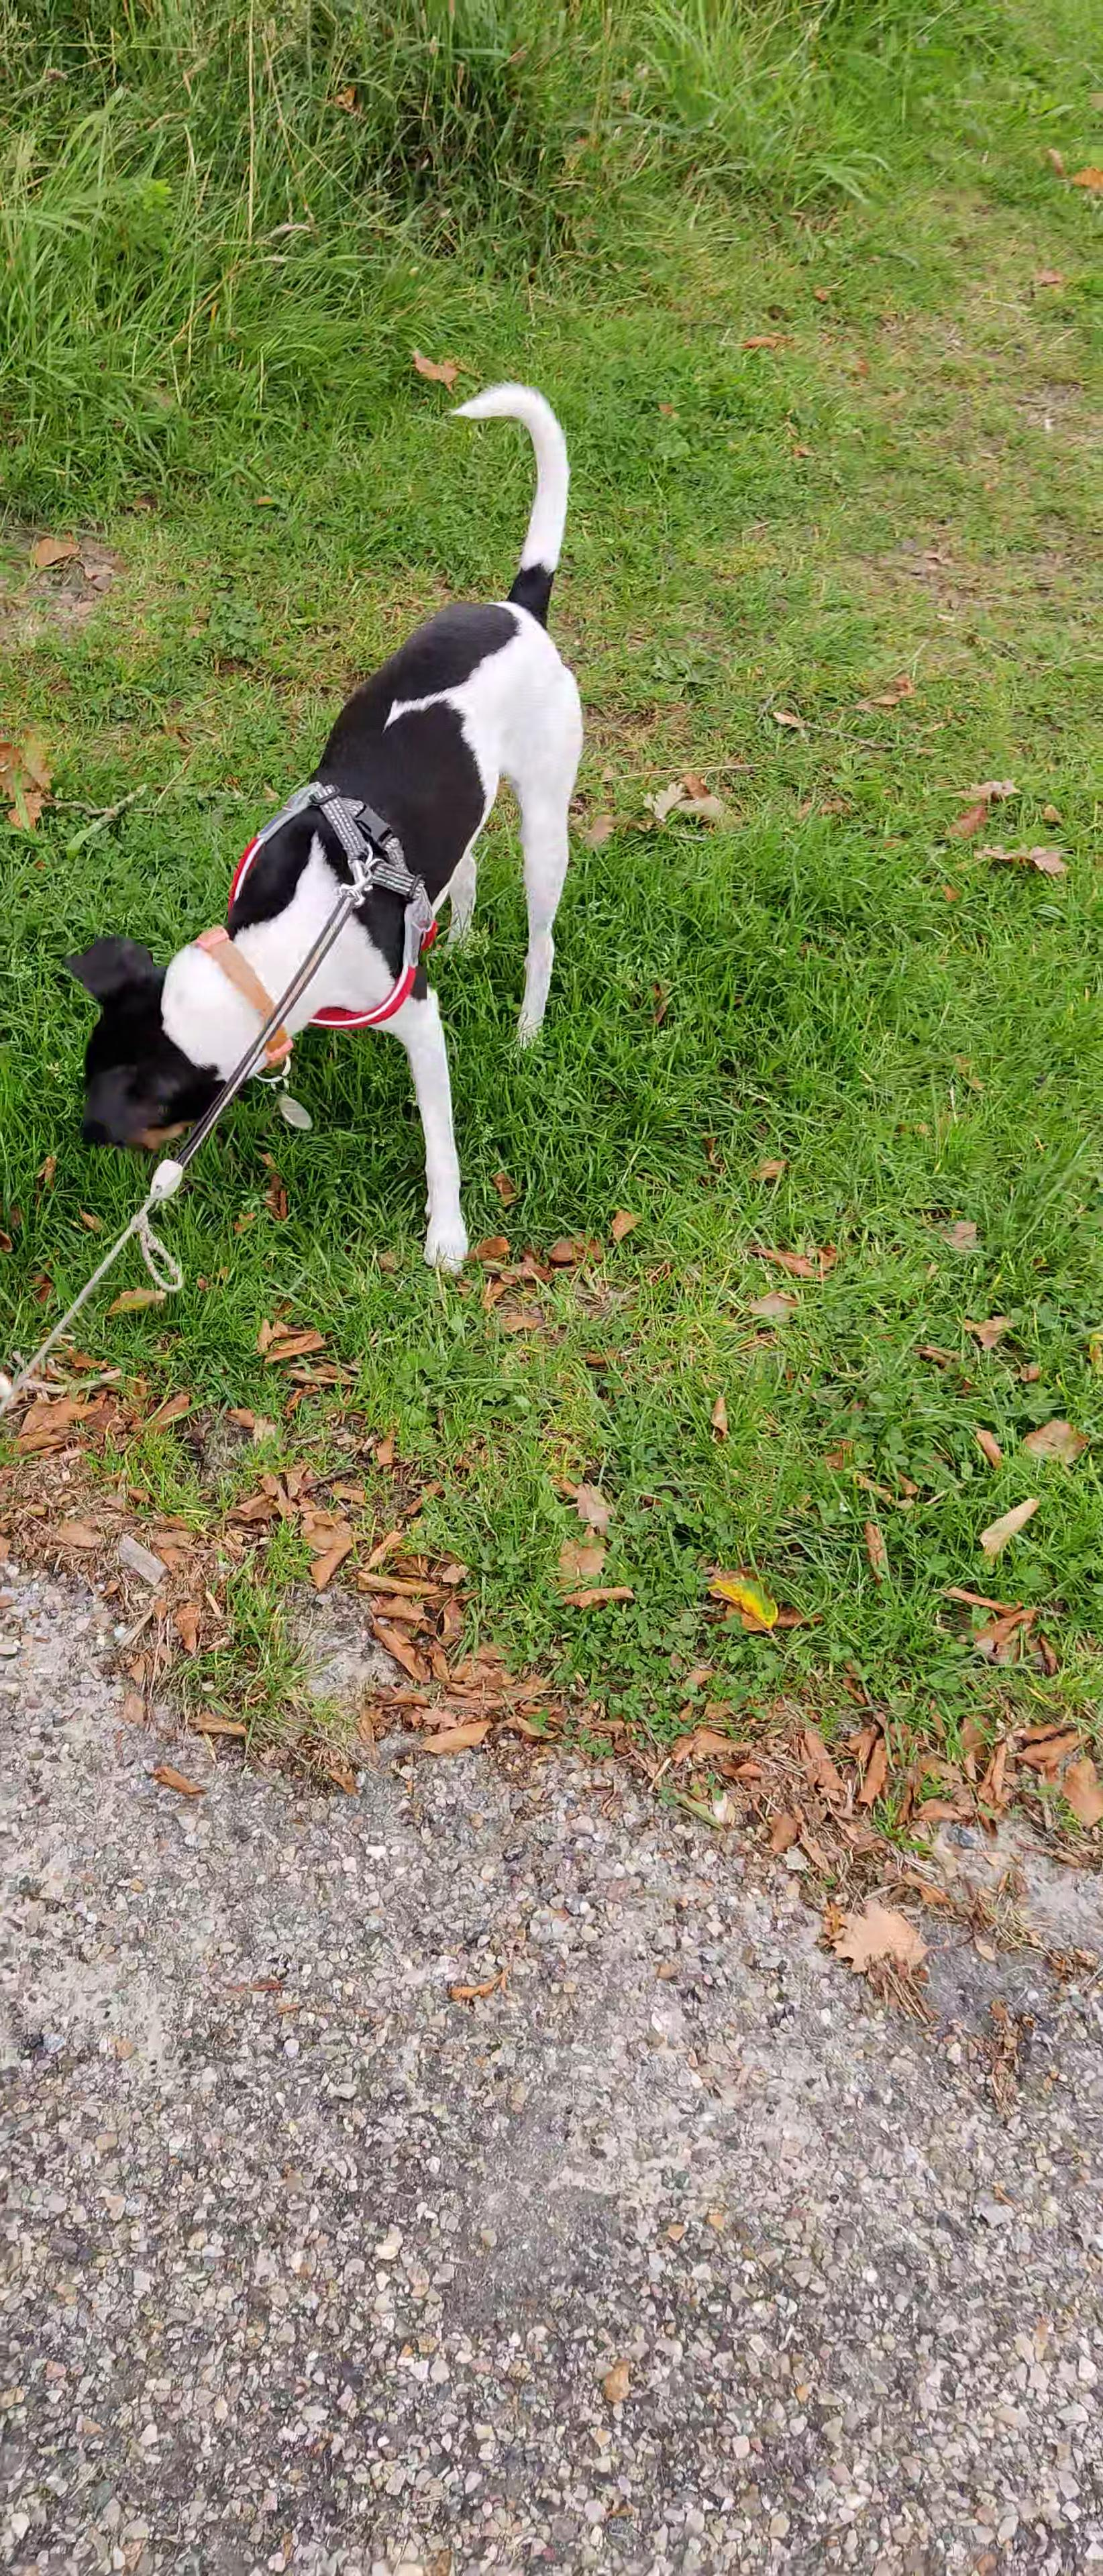Dog: (41, 365, 610, 1290)
